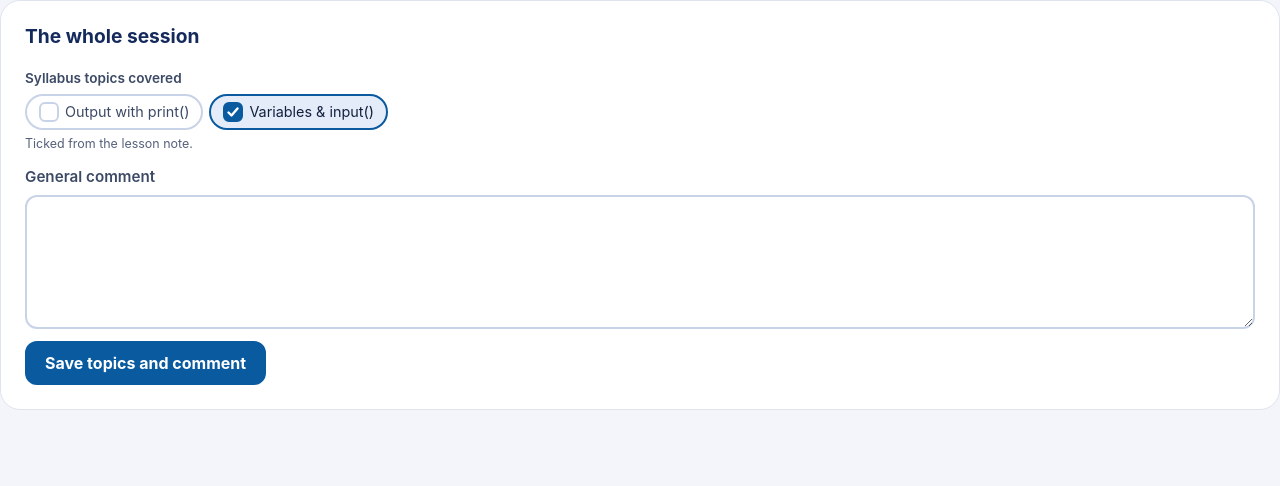
Scenario: ReportForm › saves the comment and ticked topics, and shows errors
Click the checkbox labelled "Output with print()".
click(49, 112)  # box [39, 102, 59, 122]
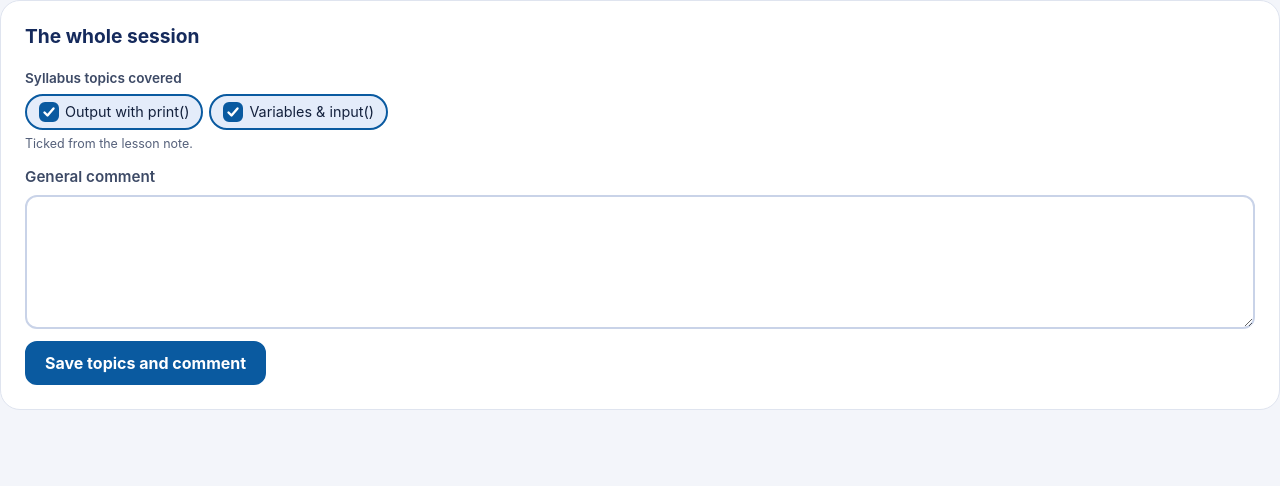
Type "Most got it." into the text box labelled "General comment".
click(640, 262); type("Most got it.")  # box [25, 195, 1255, 329]
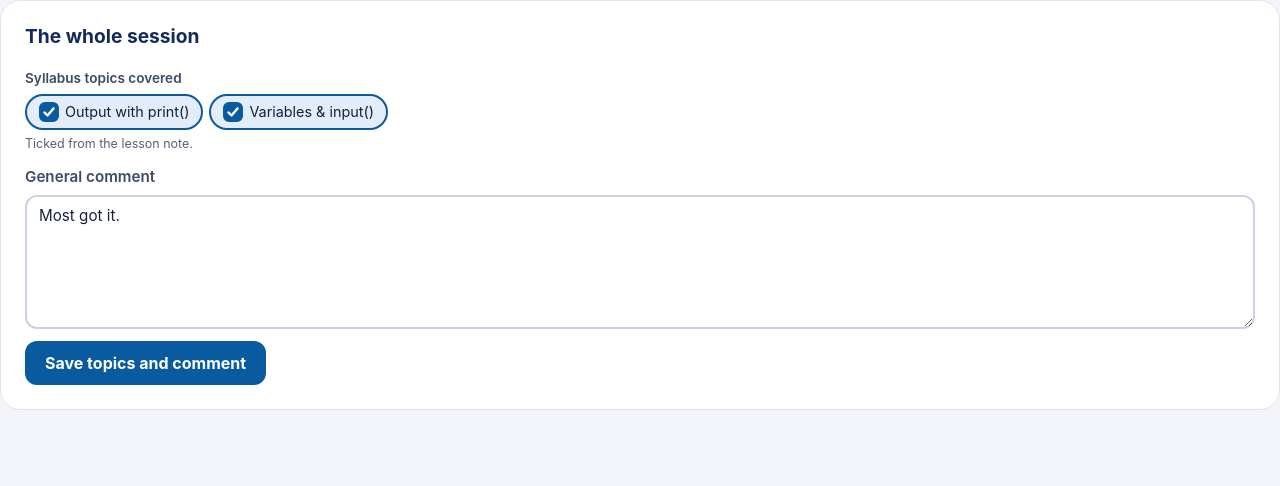
Click the button "Save topics and comment".
click(146, 363)  # box [25, 341, 266, 385]
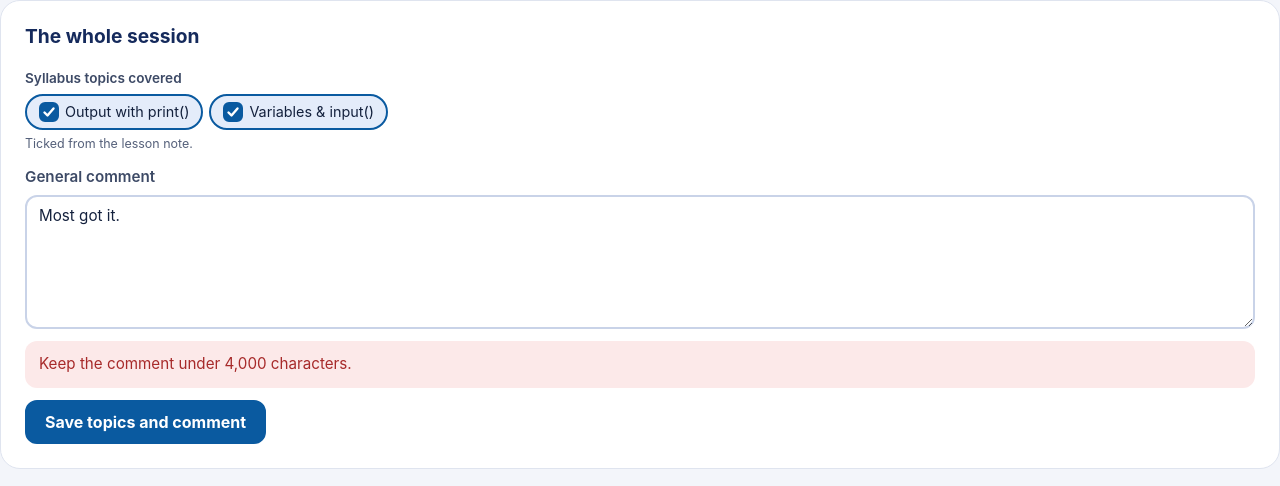
Now the message shows "4,000", box [39, 354, 352, 373]
Click the button "Save topics and comment".
click(146, 422)  # box [25, 400, 266, 444]
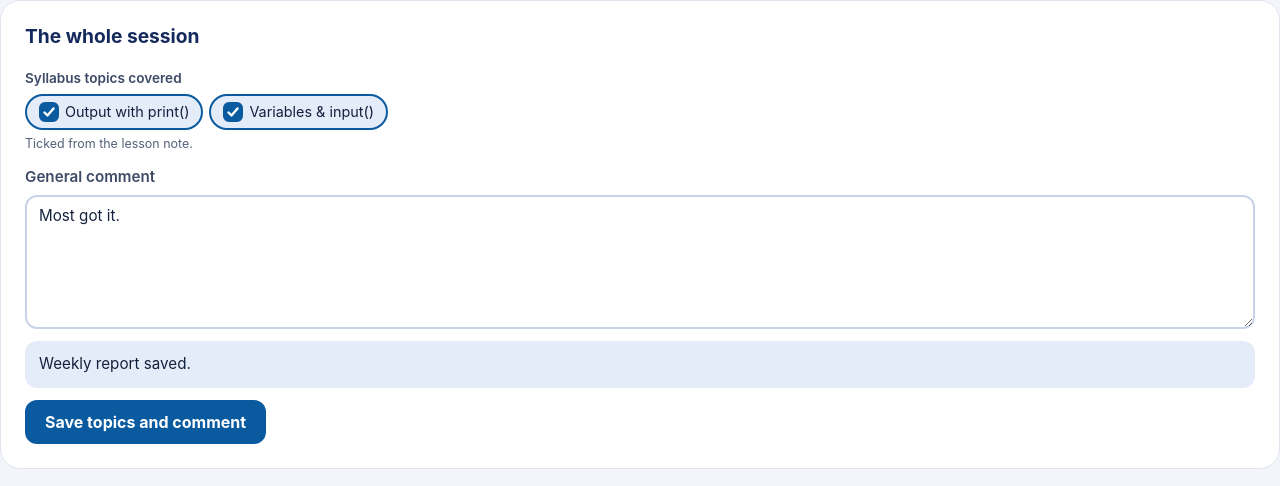
Now the message reads "Weekly report saved.", box [39, 354, 191, 373]
